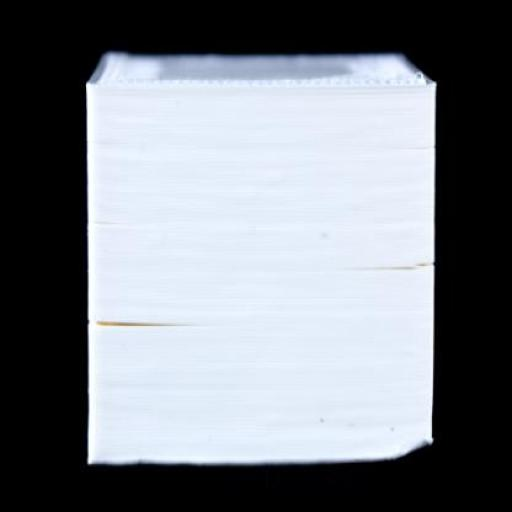cracks: (71, 293, 238, 354), (314, 226, 450, 300), (79, 131, 151, 247)
